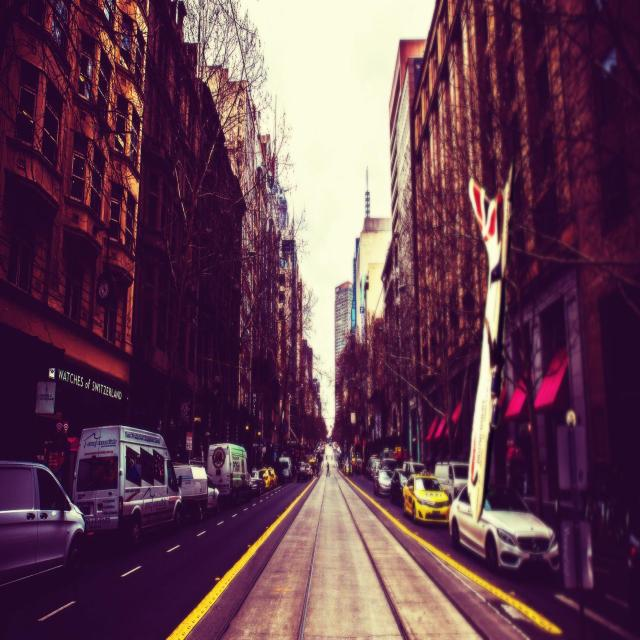airplane: (462, 162, 516, 523)
